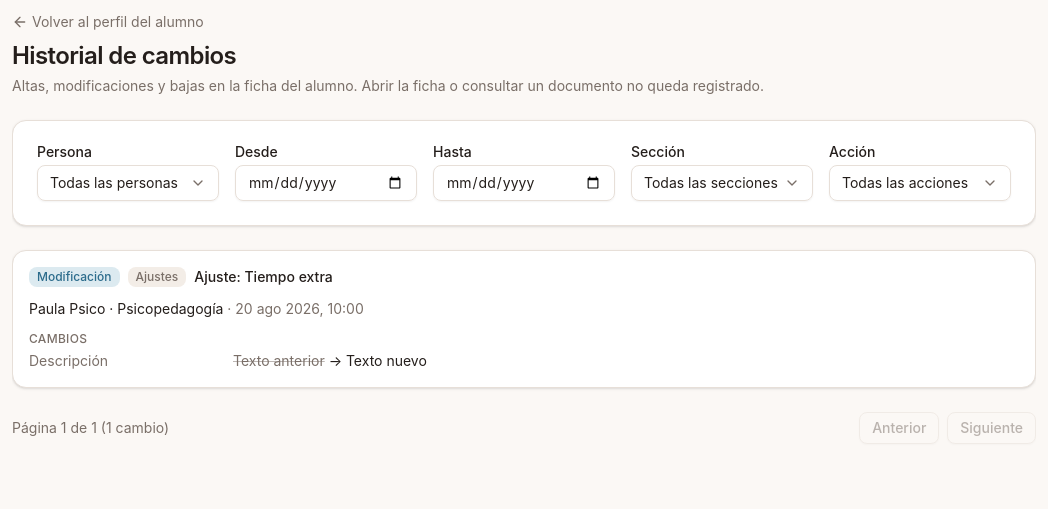
Test case: StudentHistoryPage › ignores a slower response for filters that are no longer selected
This screenshot has width=1048, height=509.
Expected: the text "Ajuste: Tiempo extra" is shown, [194,267,333,287]
Type "2026-10-01" into the date field labelled "Desde" at (326, 183), box [235,165,417,201]
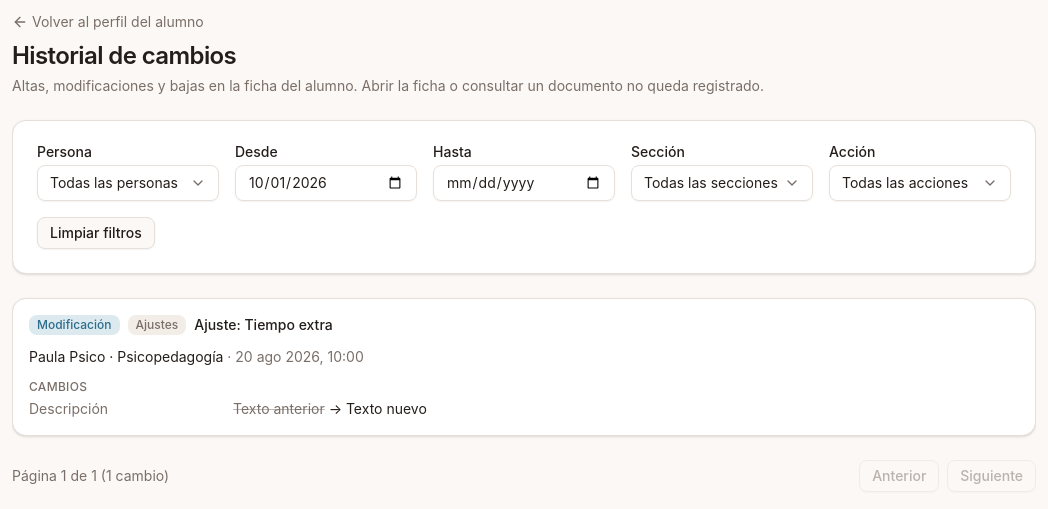
Type "2026-10-02" into the date field labelled "Desde" at (326, 183), box [235,165,417,201]
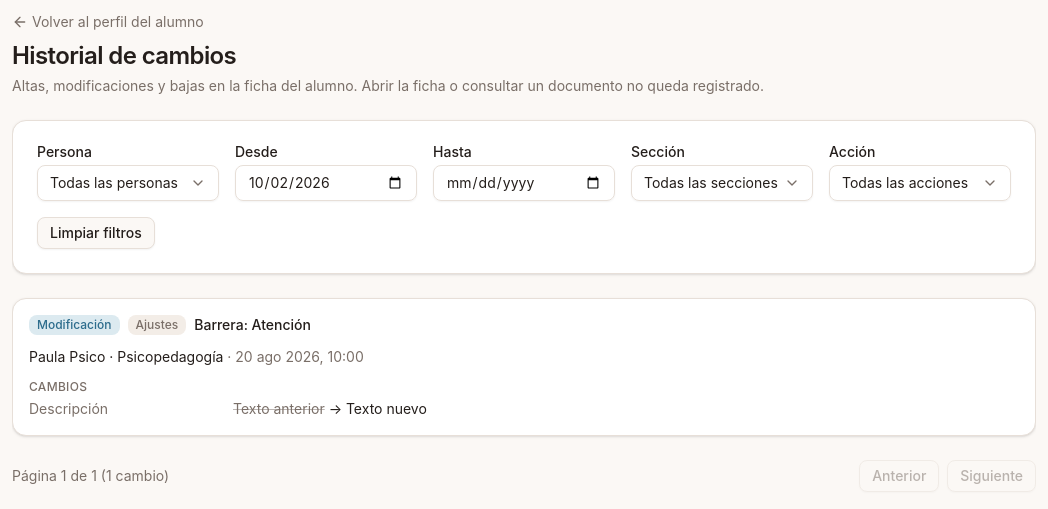
Result: the text "Barrera: Atención" is shown at [194,315,311,335]
